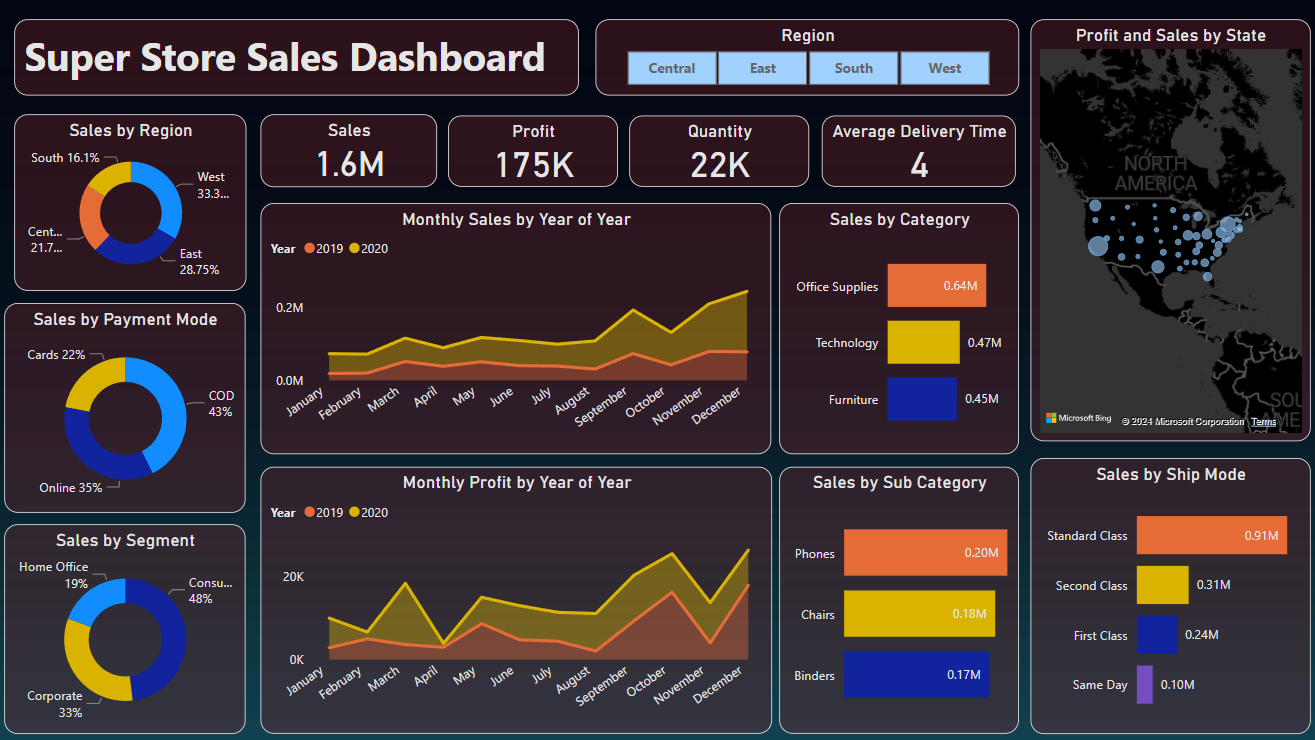

The page's visual inventory and layout, read from the dashboard file:
{"tool":"powerbi","page":{"name":"Dashboard","canvas":[1280,720],"ordinal":0},"visuals":[{"type":"barChart","title":"Sales by Category","fields":{"Category":["SuperStore_Sales_Dataset.Category"],"Y":["Sum(SuperStore_Sales_Dataset.Sales)"]},"box":[758.8,197.5,231.2,242.5],"z":0},{"type":"barChart","title":"Sales by Sub Category","fields":{"Category":["SuperStore_Sales_Dataset.Sub-Category"],"Y":["Sum(SuperStore_Sales_Dataset.Sales)"]},"box":[758.8,452.5,231.2,257.5],"z":1000},{"type":"barChart","title":"Sales by Ship Mode","fields":{"Category":["SuperStore_Sales_Dataset.Ship Mode"],"Y":["Sum(SuperStore_Sales_Dataset.Sales)"]},"box":[1001.2,443.8,270,266.2],"z":2000},{"type":"stackedAreaChart","title":"Monthly Sales by Year of Year","fields":{"Category":["SuperStore_Sales_Dataset.Order Date.Variation.Date Hierarchy.Month","SuperStore_Sales_Dataset.Order Date.Variation.Date Hierarchy.Day"],"Y":["Sum(SuperStore_Sales_Dataset.Sales)"],"Series":["SuperStore_Sales_Dataset.Order Date.Variation.Date Hierarchy.Year"]},"box":[257.5,197.5,492.5,242.5],"z":3000},{"type":"stackedAreaChart","title":"Monthly Profit by Year of Year","fields":{"Category":["SuperStore_Sales_Dataset.Order Date.Variation.Date Hierarchy.Month","SuperStore_Sales_Dataset.Order Date.Variation.Date Hierarchy.Day"],"Series":["SuperStore_Sales_Dataset.Order Date.Variation.Date Hierarchy.Year"],"Y":["Sum(SuperStore_Sales_Dataset.Profit)"]},"box":[257.5,452.5,493.8,257.5],"z":4000},{"type":"map","title":"Profit and Sales by State","fields":{"Category":["SuperStore_Sales_Dataset.State"],"Size":["Sum(SuperStore_Sales_Dataset.Sales)"]},"box":[1001.2,20,270,407.5],"z":5000},{"type":"donutChart","title":"Sales by Segment","fields":{"Y":["Sum(SuperStore_Sales_Dataset.Sales)"],"Category":["SuperStore_Sales_Dataset.Segment"]},"box":[11.2,507.5,232.5,202.5],"z":6000},{"type":"donutChart","title":"Sales by Payment Mode","fields":{"Y":["Sum(SuperStore_Sales_Dataset.Sales)"],"Category":["SuperStore_Sales_Dataset.Payment Mode"]},"box":[11.2,293.8,232.5,202.5],"z":7000},{"type":"textbox","box":[20,20,545,73.8],"z":8000},{"type":"slicer","title":"Region","fields":{"Values":["SuperStore_Sales_Dataset.Region"]},"box":[581.2,20,408.8,73.8],"z":9000},{"type":"card","title":"Sales","fields":{"Values":["Sum(SuperStore_Sales_Dataset.Sales)"]},"box":[257.5,112.5,170,70],"z":10000},{"type":"card","title":"Profit","fields":{"Values":["Sum(SuperStore_Sales_Dataset.Profit)"]},"box":[438.8,113.8,163.8,68.8],"z":11000},{"type":"card","title":"Average Delivery Time","fields":{"Values":["Avg(SuperStore_Sales_Dataset.AvgDelivery)"]},"box":[800,113.8,187.5,68.8],"z":12000},{"type":"card","title":"Quantity","fields":{"Values":["Sum(SuperStore_Sales_Dataset.Quantity)"]},"box":[613.8,113.8,173.8,68.8],"z":13000},{"type":"donutChart","title":"Sales by Region","fields":{"Y":["Sum(SuperStore_Sales_Dataset.Sales)"],"Category":["SuperStore_Sales_Dataset.Region"]},"box":[20,112.5,223.8,170],"z":14000}]}

Visuals, with their boxes in screenshot pixels (x1, y1, x2, y2), scaled from the page's 1280x720 canvas onto the 1315x740 screenshot:
"Sales by Category" barChart: <bbox>780, 203, 1017, 452</bbox>
"Sales by Sub Category" barChart: <bbox>780, 465, 1017, 730</bbox>
"Sales by Ship Mode" barChart: <bbox>1029, 456, 1306, 730</bbox>
"Monthly Sales by Year of Year" stackedAreaChart: <bbox>265, 203, 771, 452</bbox>
"Monthly Profit by Year of Year" stackedAreaChart: <bbox>265, 465, 772, 730</bbox>
"Profit and Sales by State" map: <bbox>1029, 21, 1306, 439</bbox>
"Sales by Segment" donutChart: <bbox>12, 522, 250, 730</bbox>
"Sales by Payment Mode" donutChart: <bbox>12, 302, 250, 510</bbox>
textbox: <bbox>21, 21, 580, 96</bbox>
"Region" slicer: <bbox>597, 21, 1017, 96</bbox>
"Sales" card: <bbox>265, 116, 439, 188</bbox>
"Profit" card: <bbox>451, 117, 619, 188</bbox>
"Average Delivery Time" card: <bbox>822, 117, 1015, 188</bbox>
"Quantity" card: <bbox>631, 117, 809, 188</bbox>
"Sales by Region" donutChart: <bbox>21, 116, 250, 290</bbox>
